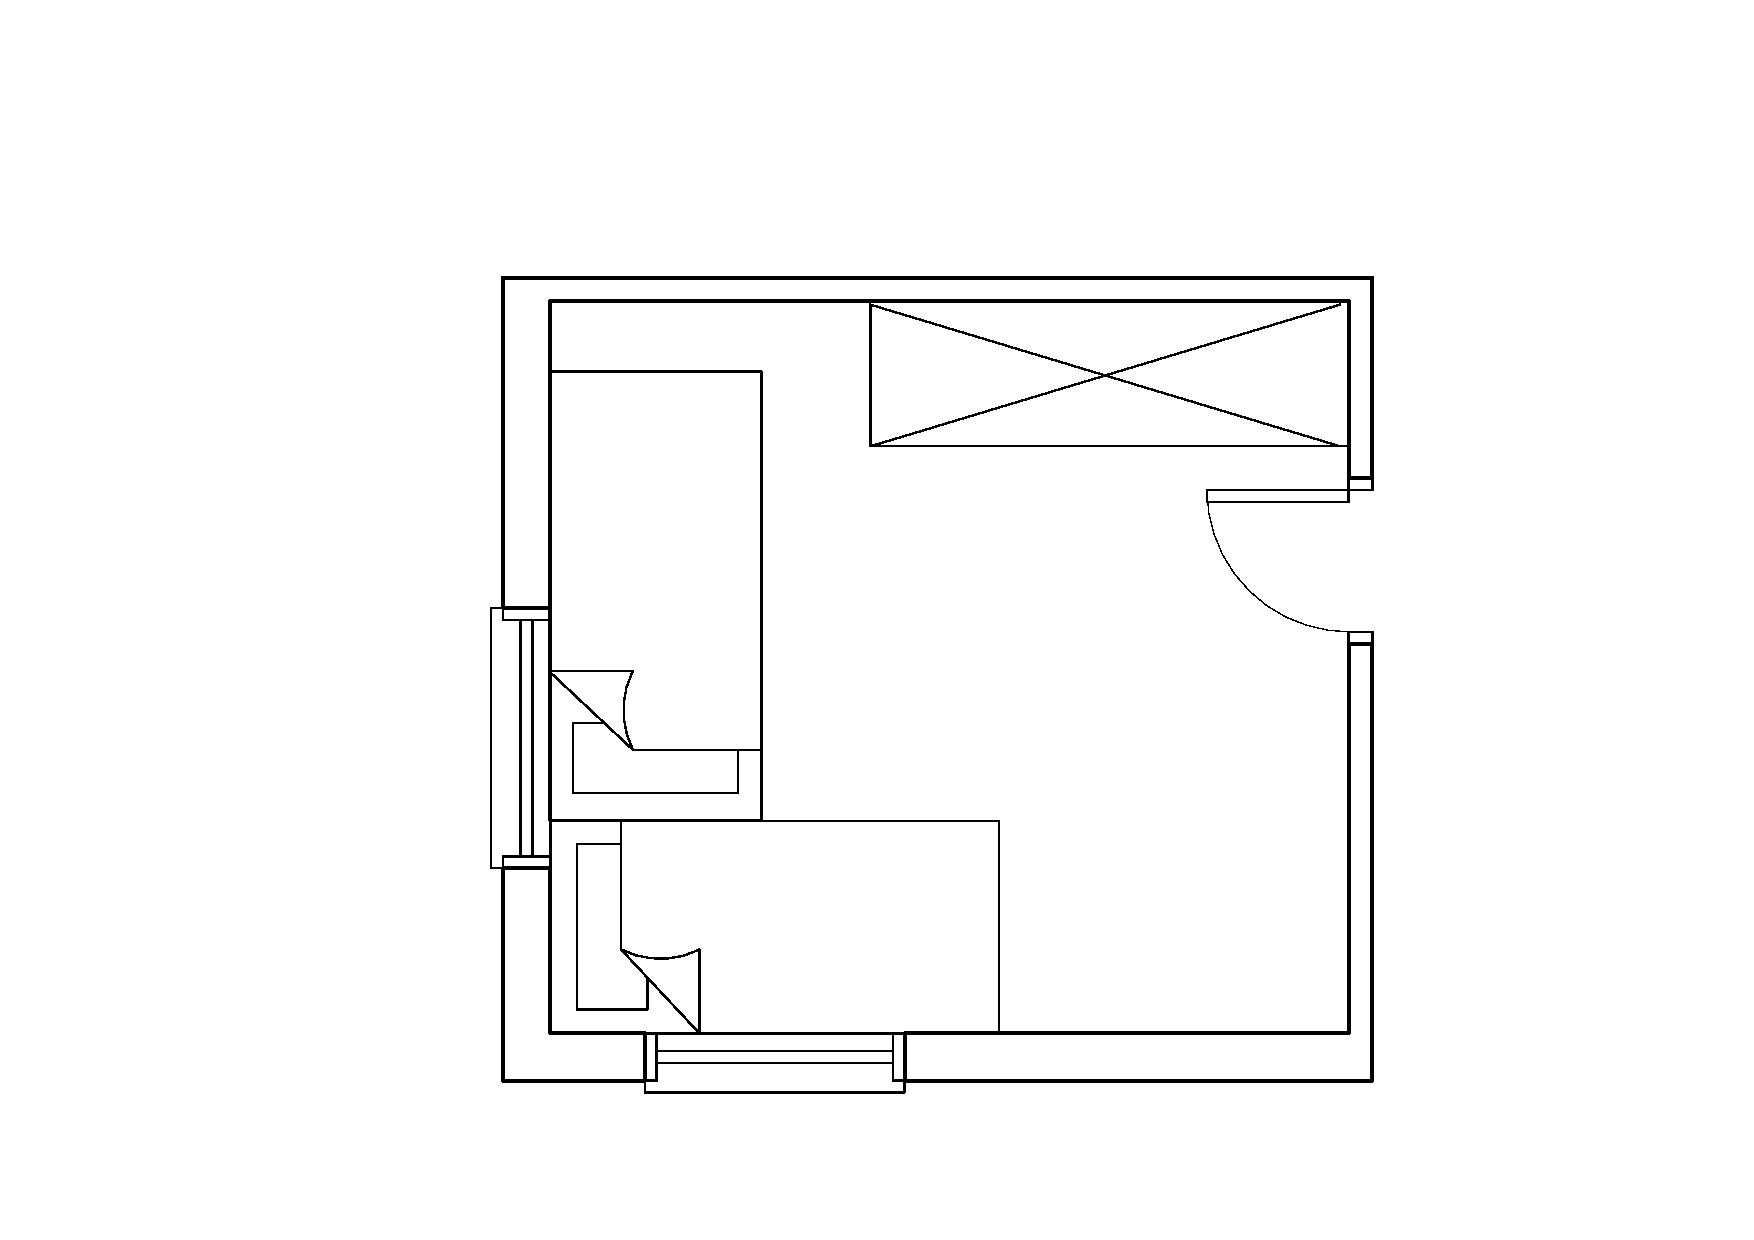door: (1188, 478, 1330, 635)
window: (650, 1031, 905, 1068), (518, 623, 553, 854)
